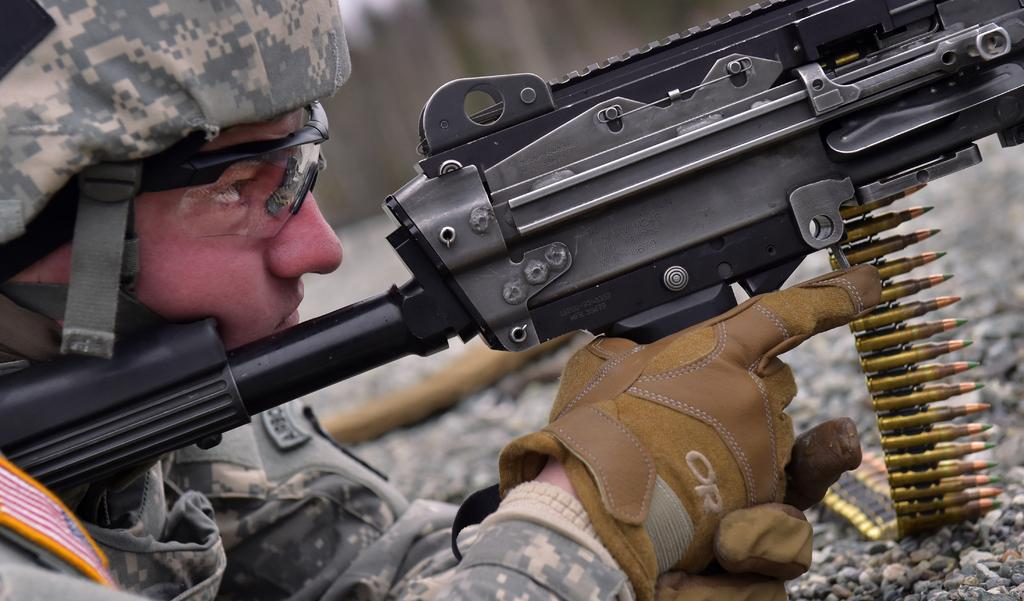Shotgun: (41, 0, 1023, 500)
